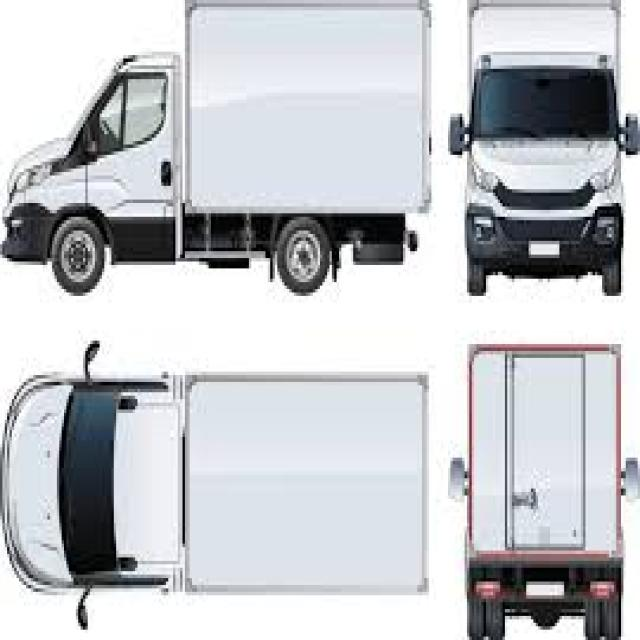truck: (0, 0, 431, 297), (0, 369, 428, 594), (466, 0, 624, 299)
